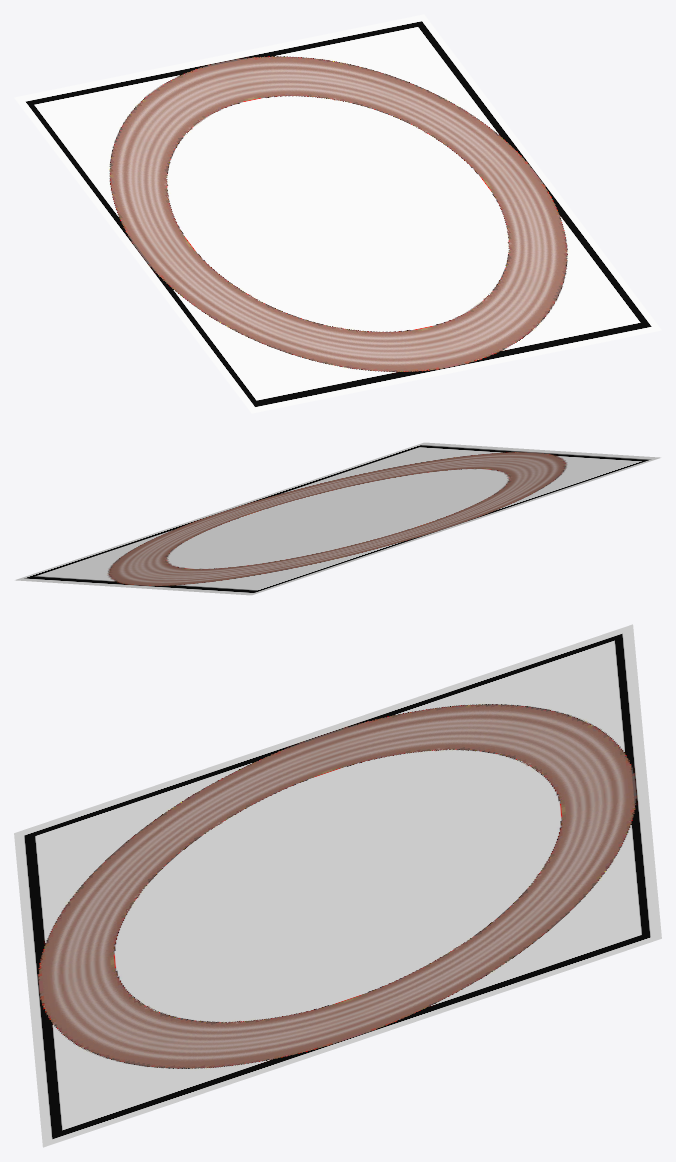
The model's file is Quad.fbx.
3 renders of one model, top to bottom at view 1: azimuth 30°, elevation 25°; view 2: azimuth 210°, elevation 25°; view 3: azimuth 270°, elevation 25°, orthographic. The views are drawn at different scales.
Parts seen in each view (by area): view 1: Quad; view 2: Quad; view 3: Quad.
Boxes of the visible parts, x1,y1,x2,y2 form: Quad: [14, 14, 661, 413]; Quad: [15, 442, 660, 595]; Quad: [14, 624, 661, 1147].
Bounding box in the file's own units: 1.02 × 0.4025 × 0.9839.
Materials: 1 (1 with a texture image).
